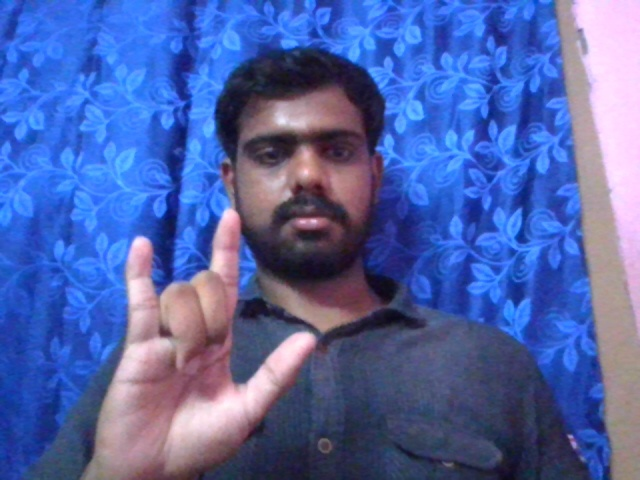IloveYou: (93, 204, 328, 474)
